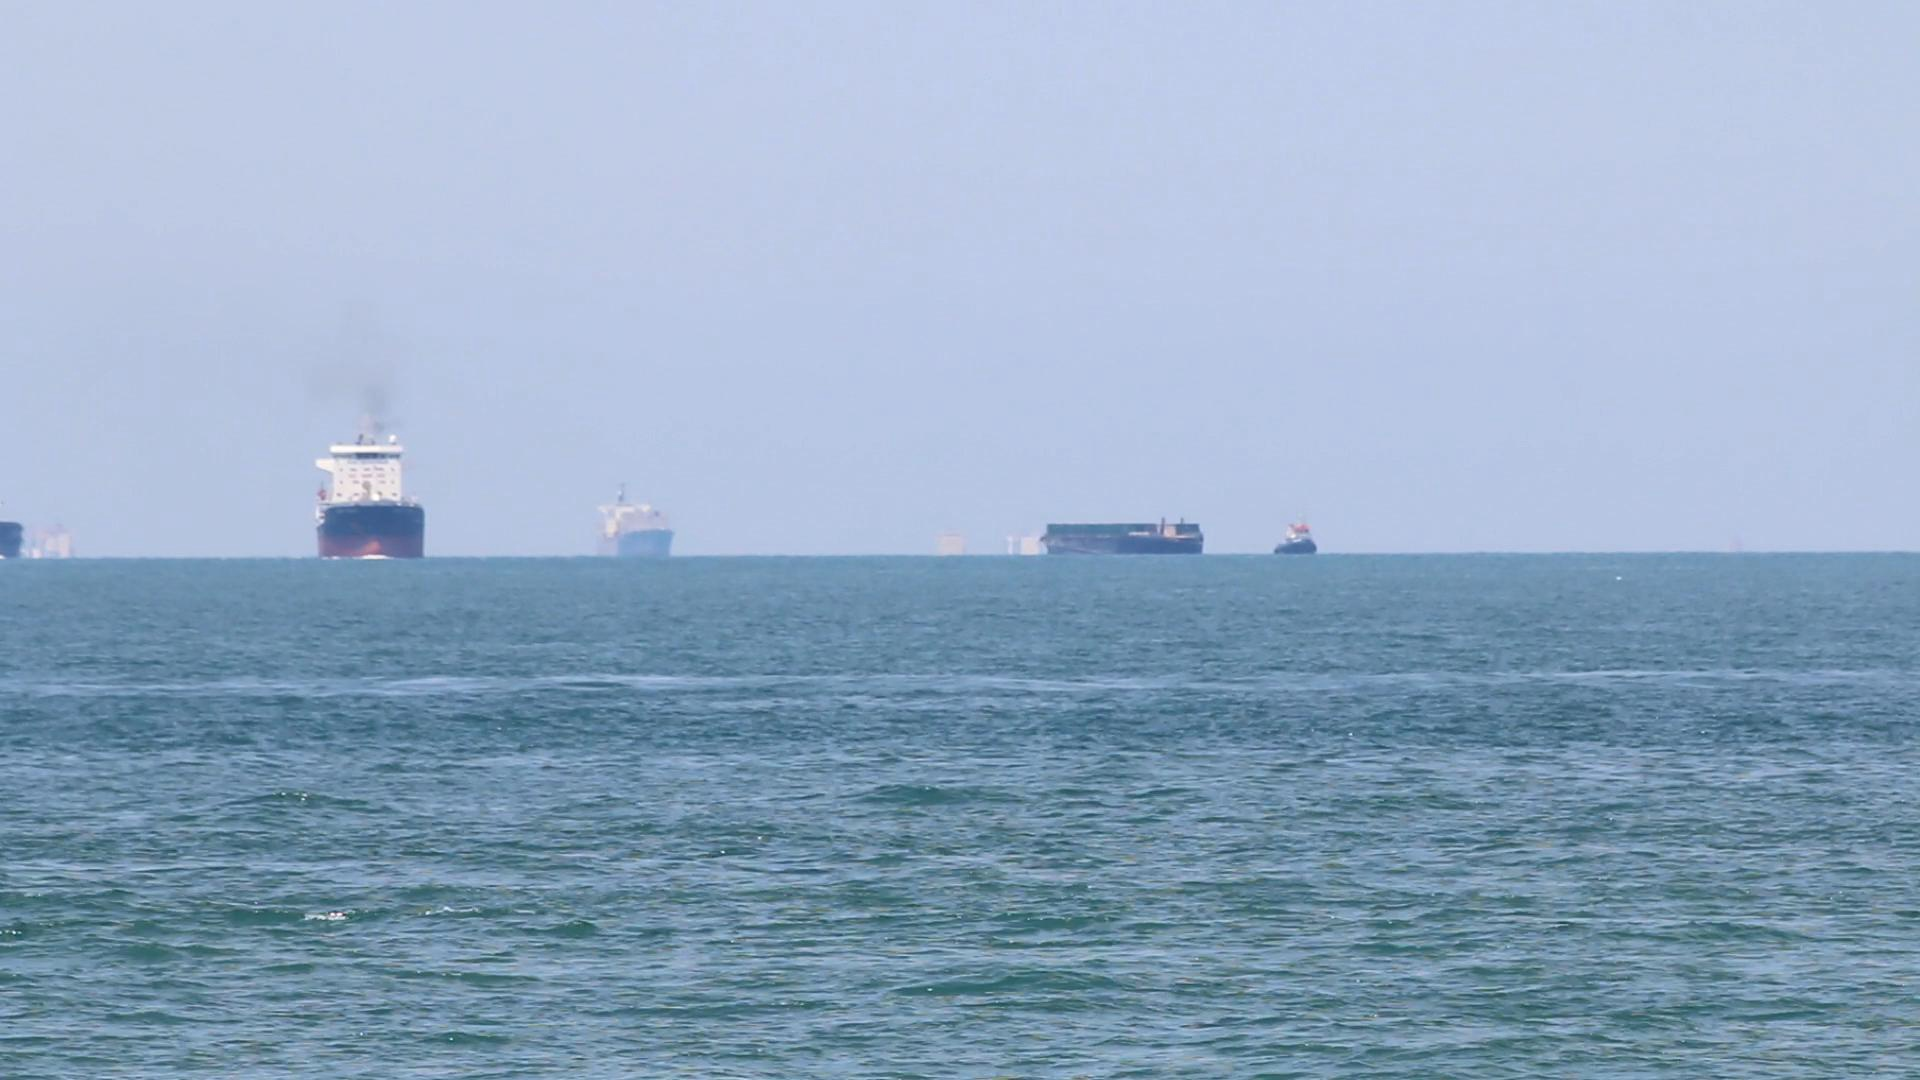Container Ship: (313, 405, 435, 568), (1029, 512, 1217, 563), (587, 477, 684, 568), (1267, 498, 1324, 563)
